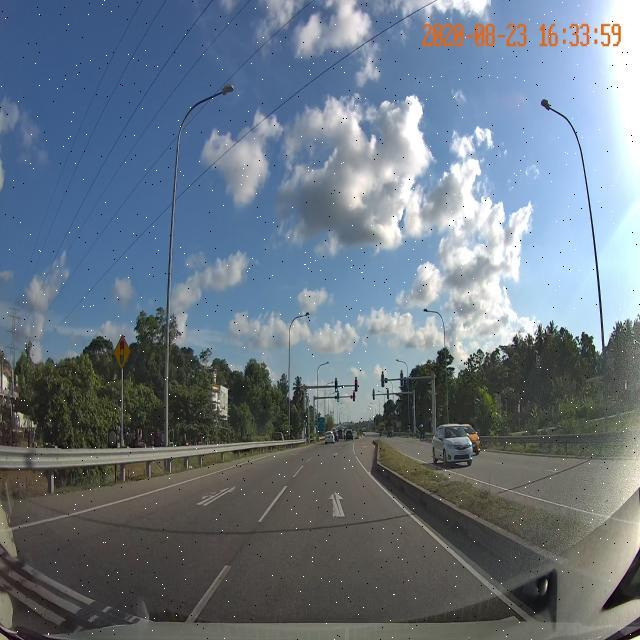forward: (257, 482, 430, 528)
